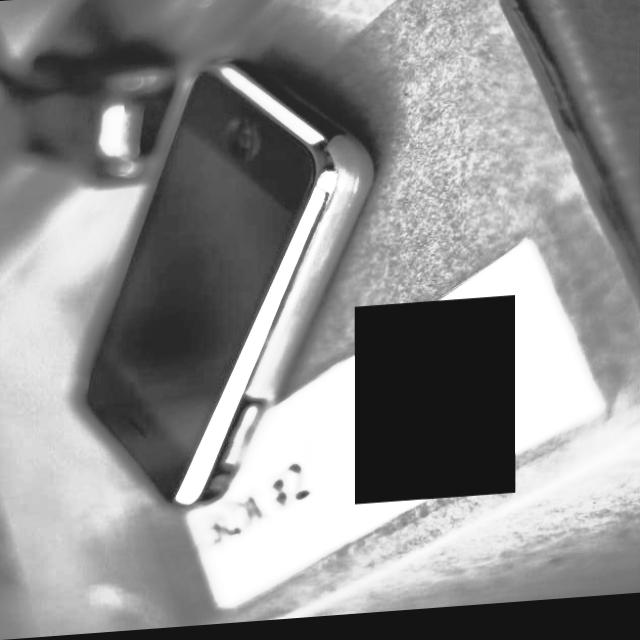qr_code: (355, 302, 515, 509)
